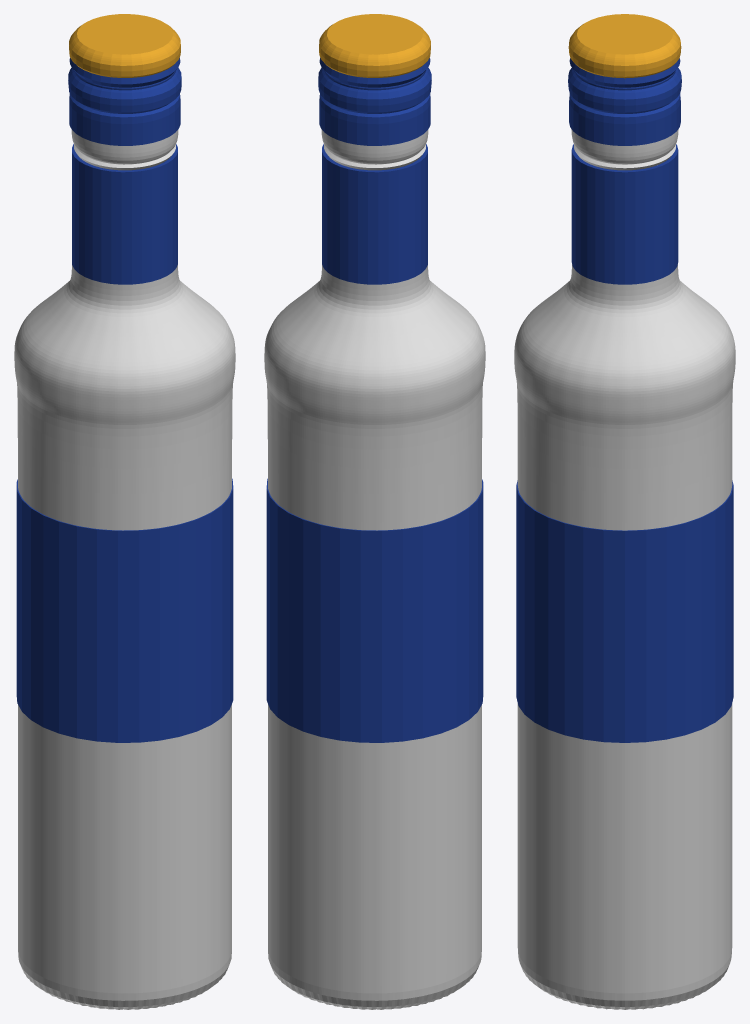
Rendered from vodka5.fbx.
The picture shows the model from 3 angles, left to right: view 1: azimuth 30°, elevation 25°; view 2: azimuth 150°, elevation 25°; view 3: azimuth 270°, elevation 25°; orthographic projection.
Visible parts, largest first — view 1: Circle, Circle.001, Circle.003, Circle.002; view 2: Circle, Circle.001, Circle.003, Circle.002; view 3: Circle, Circle.001, Circle.003, Circle.002.
Part boxes in pixels (left/top/right/bottom): Circle: left=14, top=129, right=235, bottom=1009; Circle.001: left=16, top=478, right=233, bottom=742; Circle.003: left=68, top=14, right=181, bottom=145; Circle.002: left=72, top=144, right=177, bottom=284; Circle: left=264, top=129, right=485, bottom=1009; Circle.001: left=266, top=478, right=483, bottom=742; Circle.003: left=318, top=14, right=431, bottom=145; Circle.002: left=322, top=144, right=427, bottom=284; Circle: left=514, top=129, right=735, bottom=1009; Circle.001: left=516, top=480, right=733, bottom=742; Circle.003: left=568, top=14, right=681, bottom=145; Circle.002: left=571, top=144, right=678, bottom=284.
Size of the model in its own units: 104 by 492 by 104.
